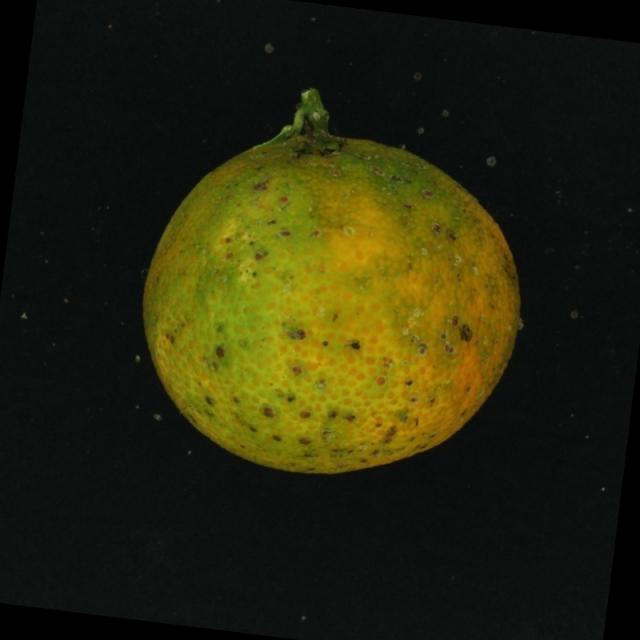grenning: (110, 66, 534, 494)
